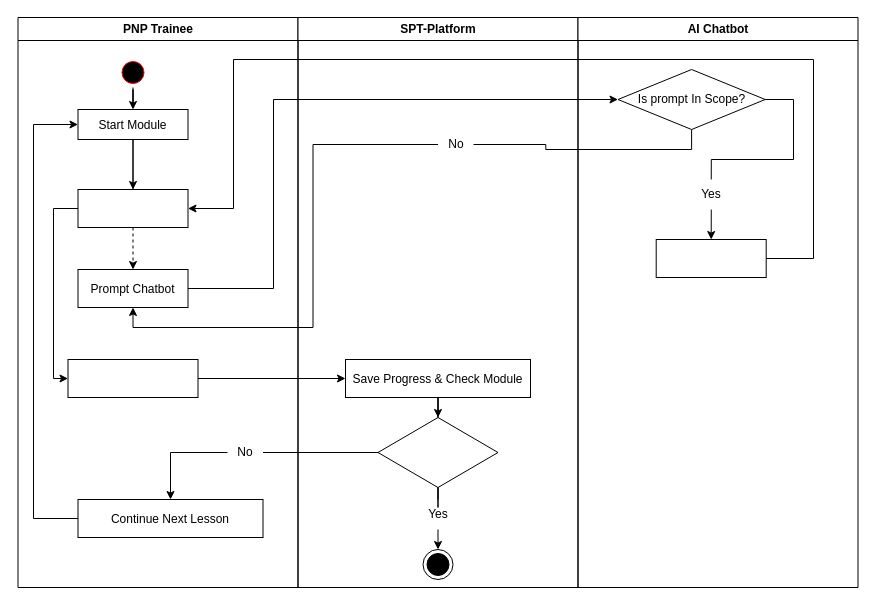
The diagram is 875 pixels wide and 605 high, and some of its shapes have lost their labels. The shapes that lost their labels are listed below. From the top down, each one's box as (x1, y1, x2, y2) in pixels, then its label:
(77, 188, 188, 228): Select & Read Lesson
(655, 238, 766, 278): Answer prompt
(67, 358, 198, 398): Mark Lesson Complete
(377, 416, 498, 488): Are all modules done?
